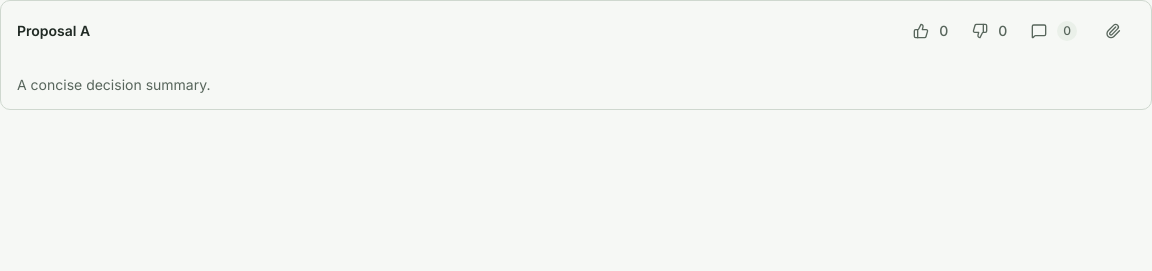
Test: ProposalList › should show the first preview and reveal the original description on demand
expect the text "A concise decision summary." is shown: met, box [17,76,210,93]
expect the text "Original detailed proposal." is not shown: met
Click the button "Proposal A".
click(54, 31)  # box [17,9,887,53]
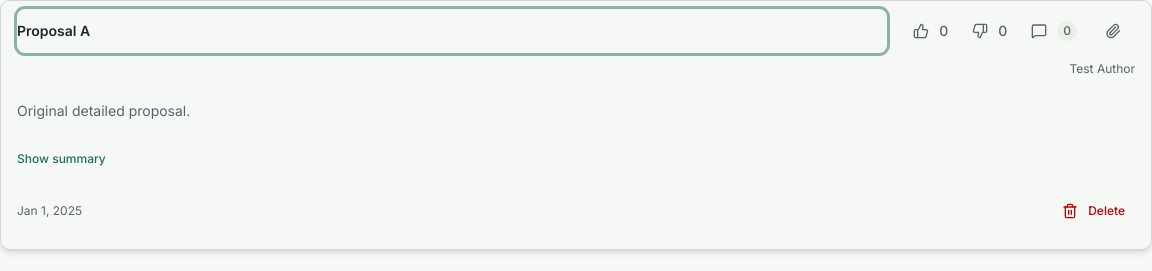
expect the text "Original detailed proposal." is shown: met, box [17,102,190,119]
